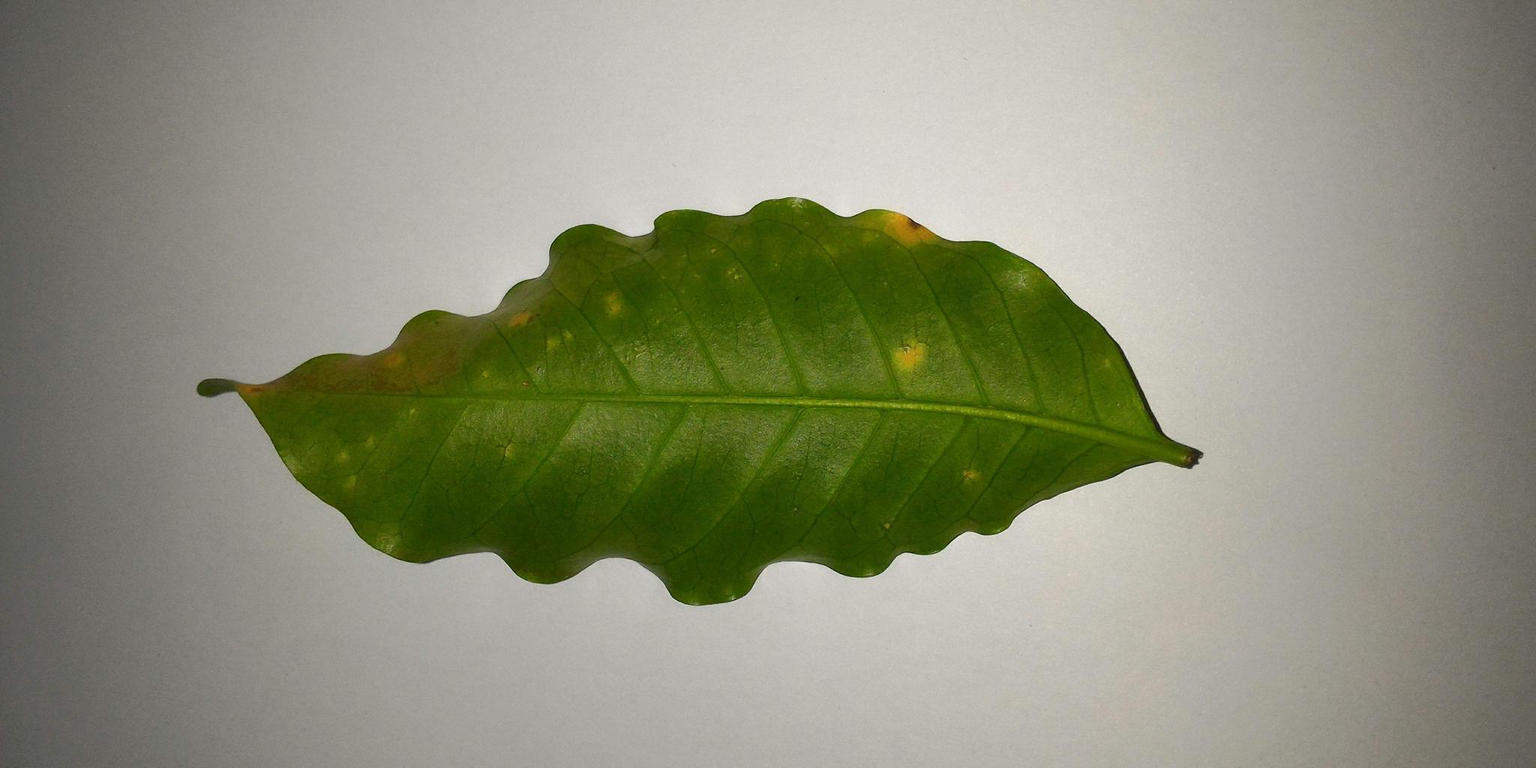Rust: (863, 194, 953, 276), (874, 320, 941, 392)
